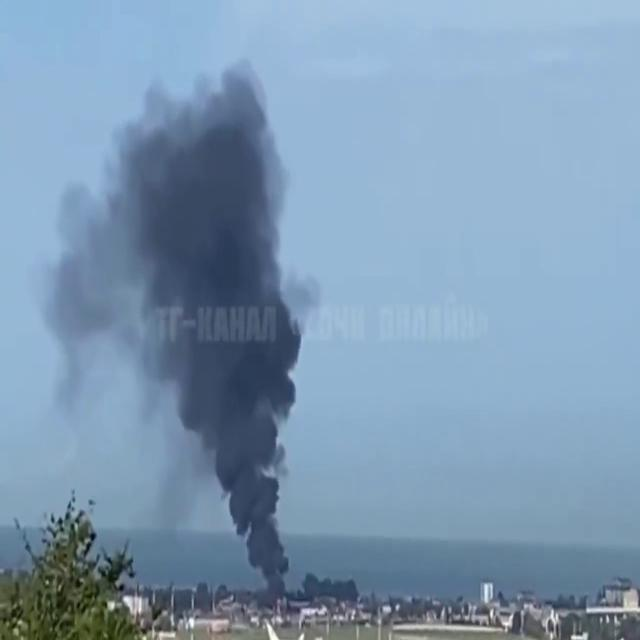Smoke: (53, 58, 320, 597)
